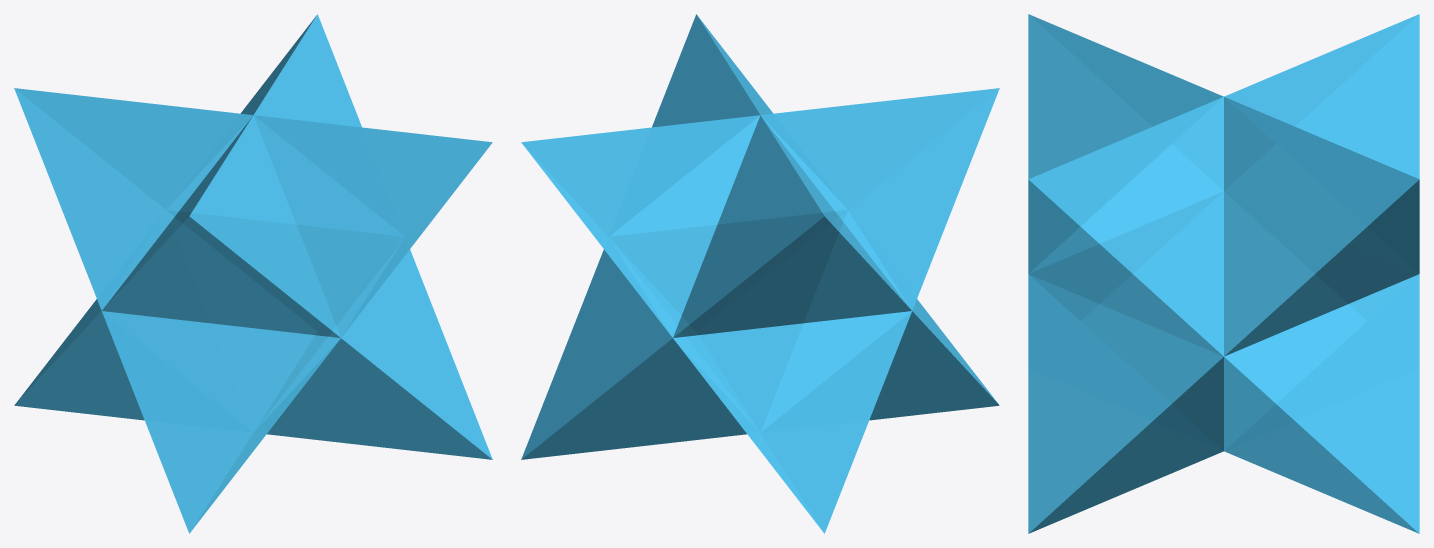
File: StellaOctangula.obj
3 views of the same model, side by side, from view 1: azimuth 30°, elevation 25°; view 2: azimuth 150°, elevation 25°; view 3: azimuth 270°, elevation 25° (orthographic). The views are drawn at different scales.
Bounding box in the file's own units: 0.7071 × 0.7071 × 0.7071.
